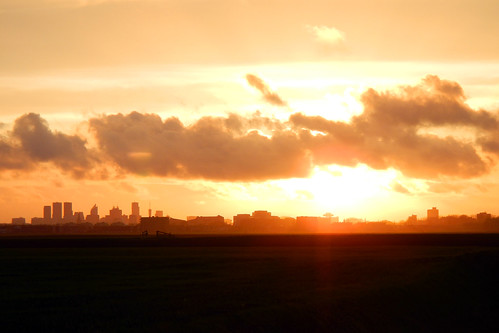sea: (1, 242, 493, 333)
sky: (1, 1, 499, 198)
